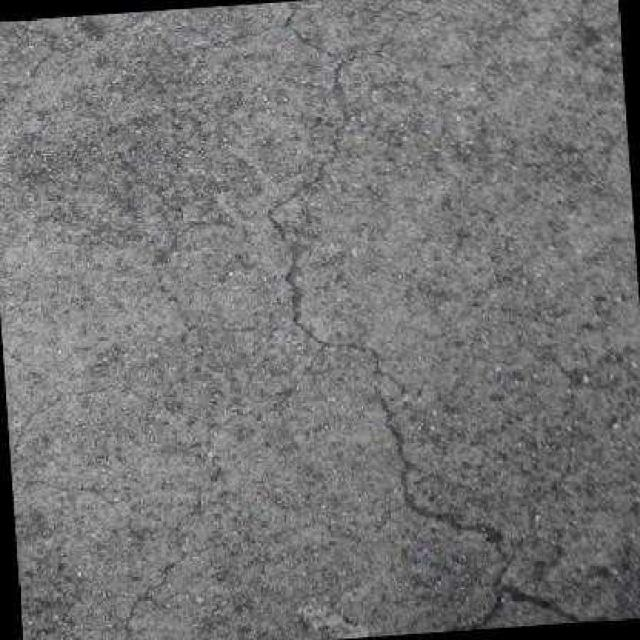D00: (261, 0, 588, 630)
